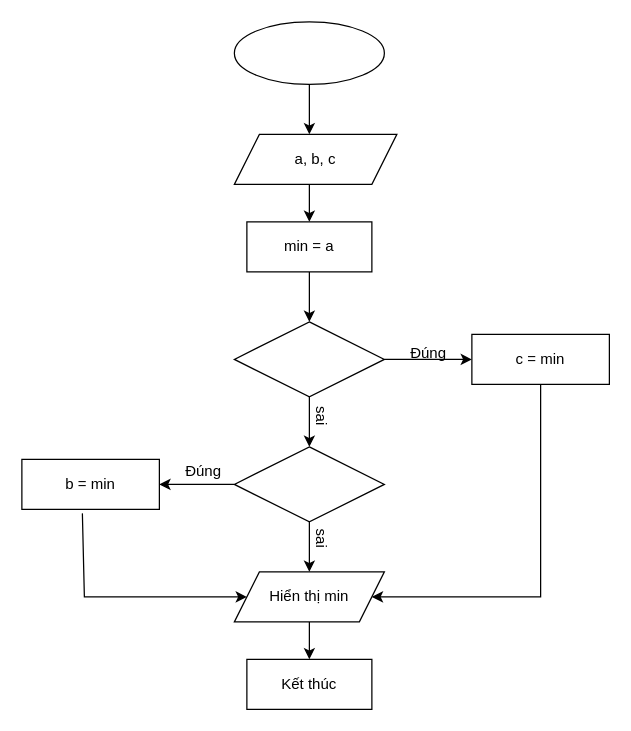
This 631x731 diagram has some shape labels left out. Here are the shapes that lost their labels. From the top down, the centre of each, then its label:
At pixel 308 52: "Satrt".
At pixel 308 359: "c < min".
At pixel 308 484: "b < min".
